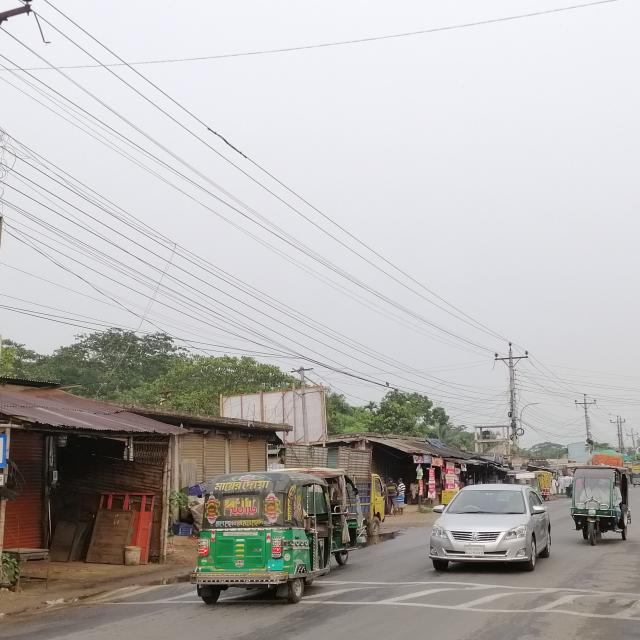CNG: (196, 469, 336, 601)
Car: (424, 479, 558, 583)
Easybike: (568, 466, 634, 546)
